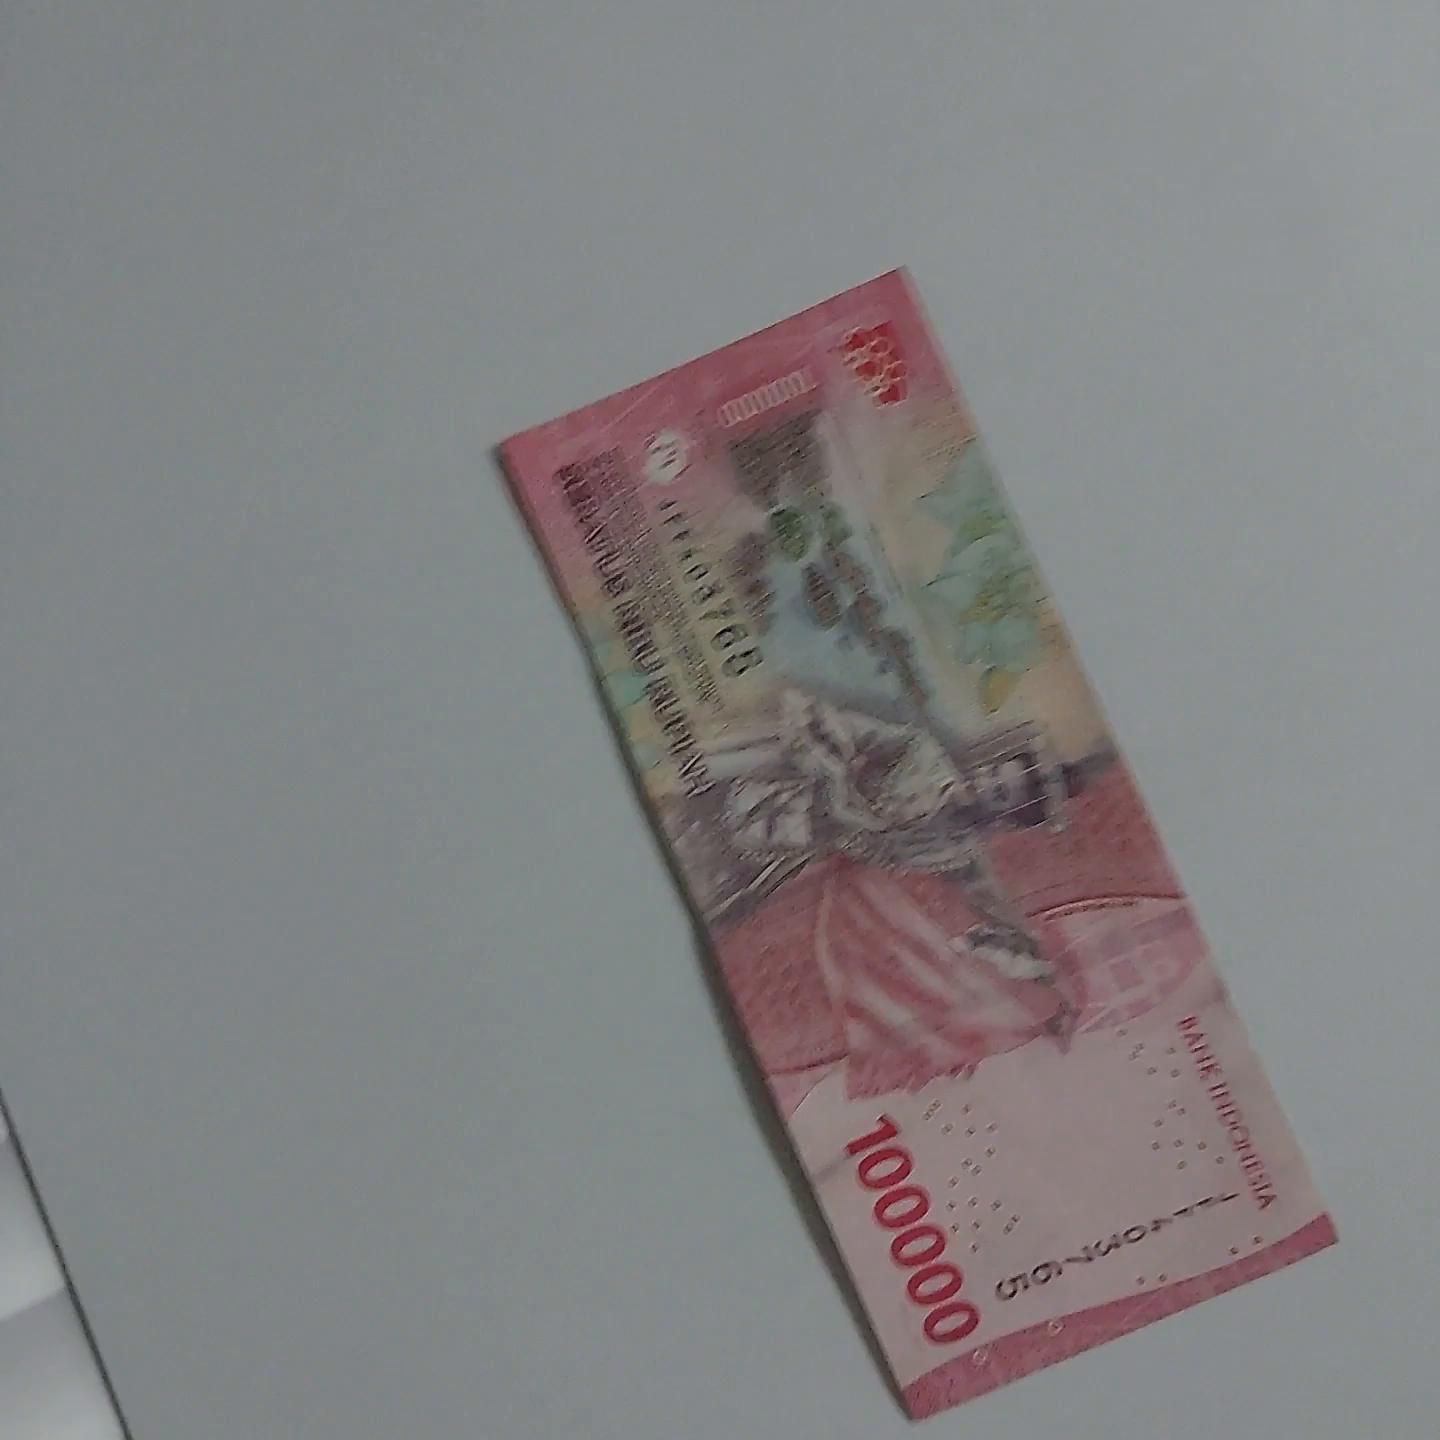100k: (468, 450, 935, 1440)
